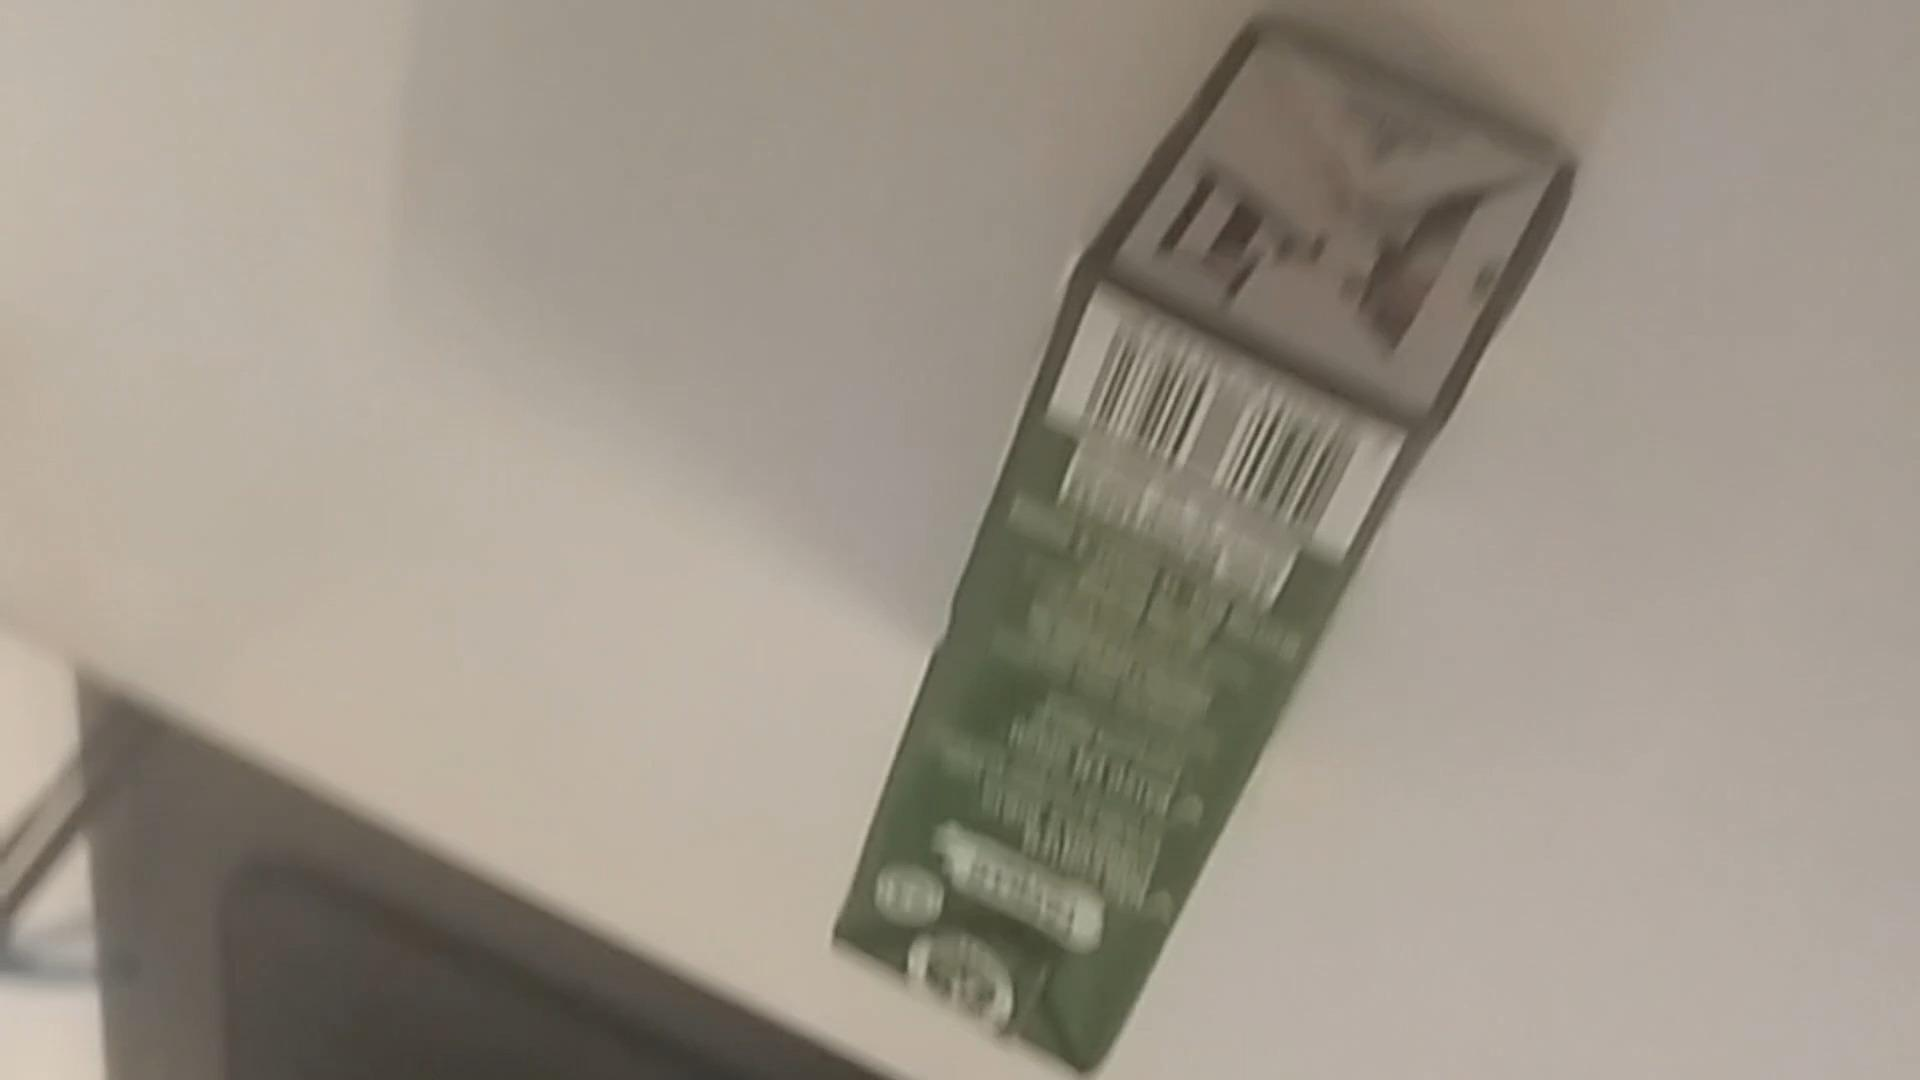coco: (829, 20, 1590, 1077)
